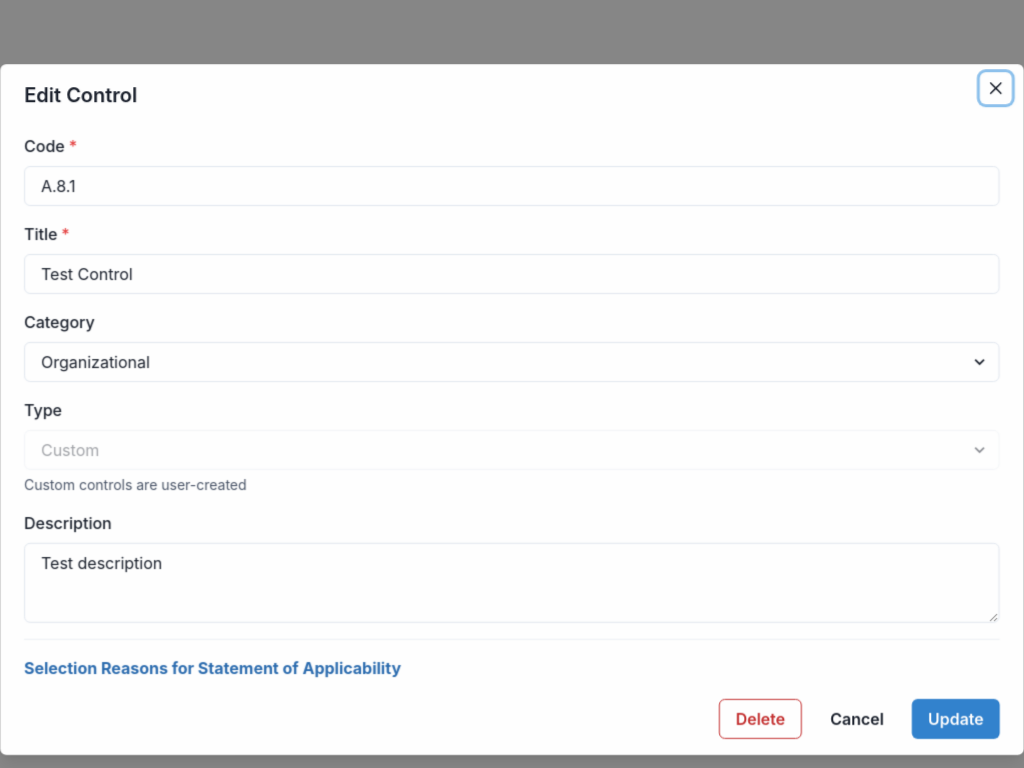
Test: ControlFormModal › Delete Functionality › should open delete confirmation dialog when delete is clicked
This screenshot has width=1024, height=768.
What coordinates should you click on to do the following:
click the button "Delete"
I would click on:
 (760, 719)
Its box is [719,699,802,739].
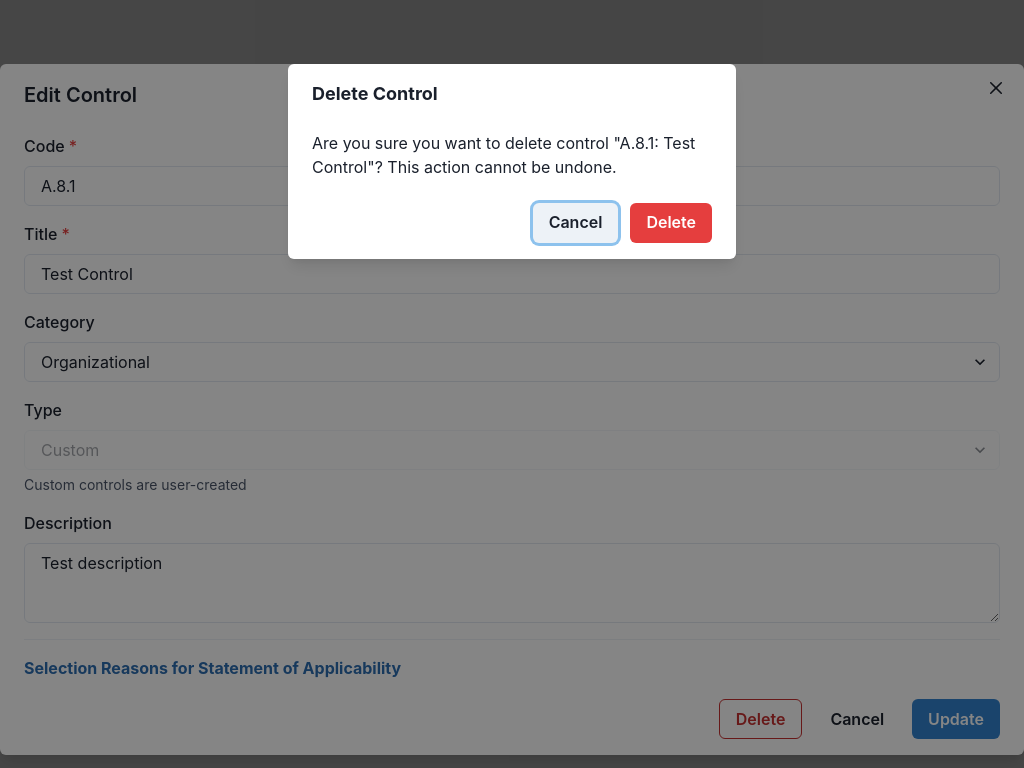
Now the text "Are you sure you want to delete control" is shown, box [312,133,620,153]
Now the text "A.8.1: Test Control" is shown, box [288,123,736,187]
